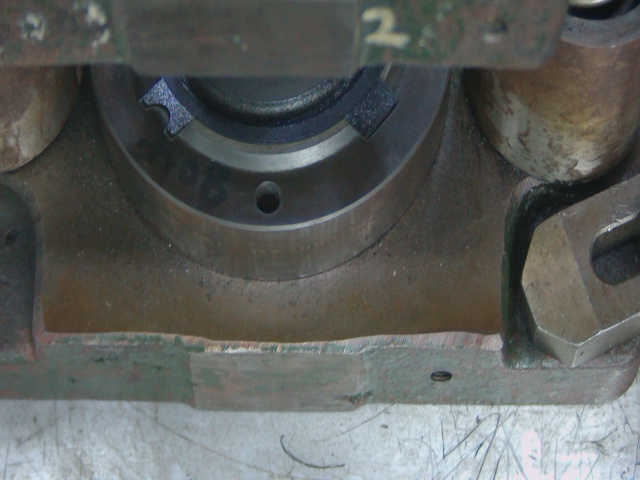HX2: (140, 84, 203, 149)
